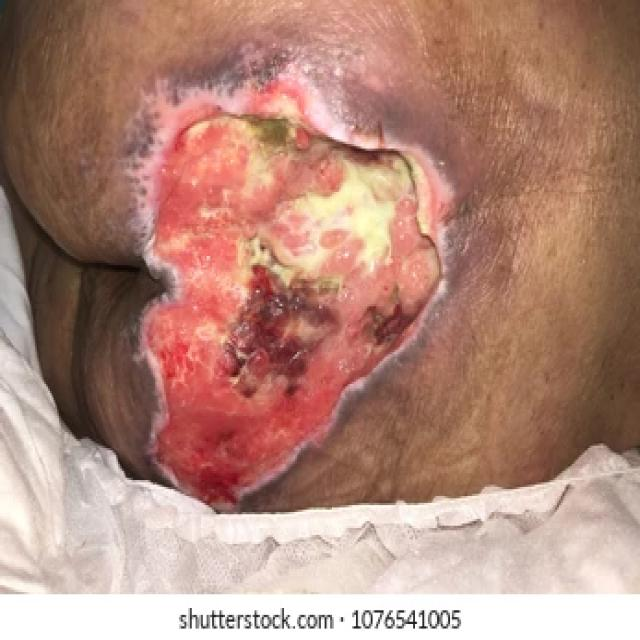stage-4: (140, 111, 441, 509)
